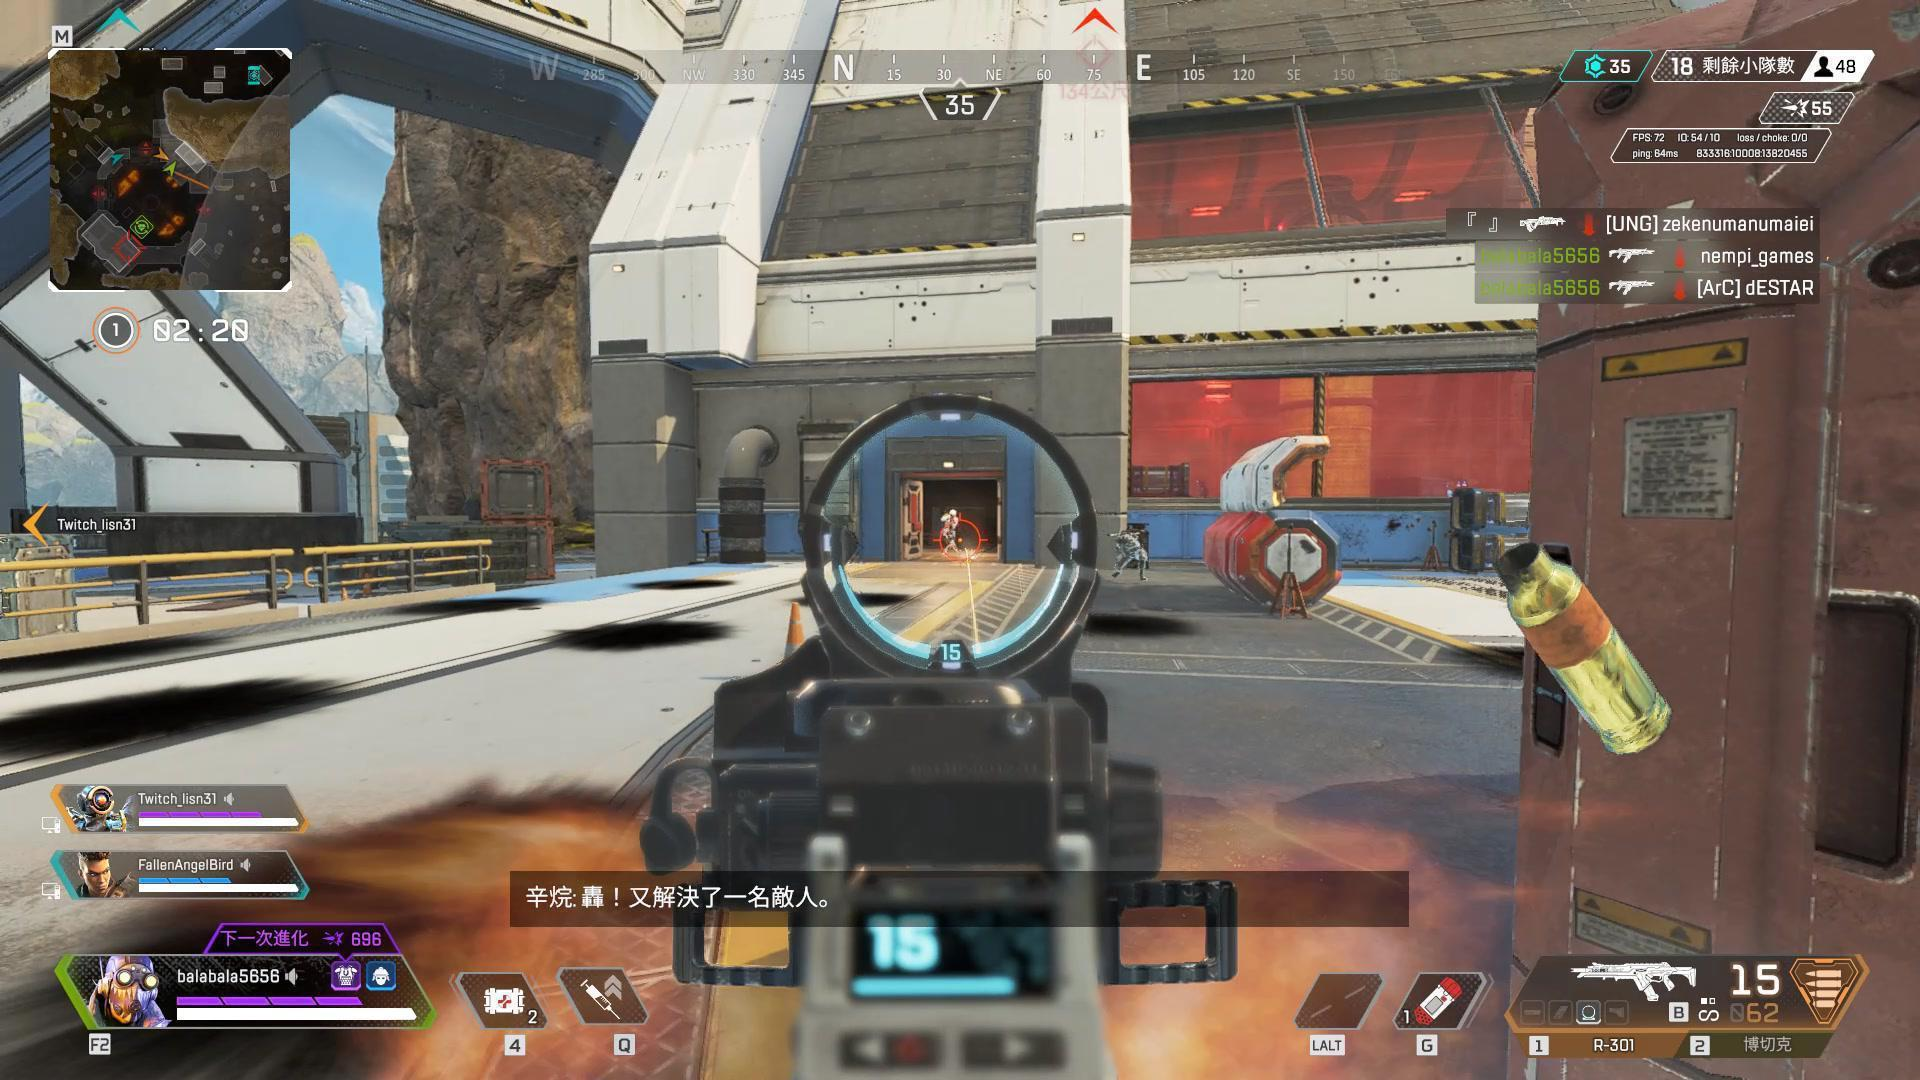avatar: (1112, 529, 1148, 581), (938, 509, 962, 555)
